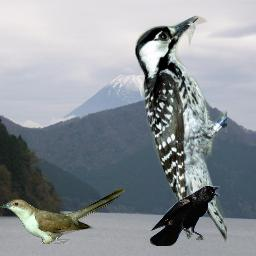Crow: (150, 185, 220, 246)
Cuckoo: (0, 187, 125, 244)
Woodpecker: (134, 15, 227, 243)
